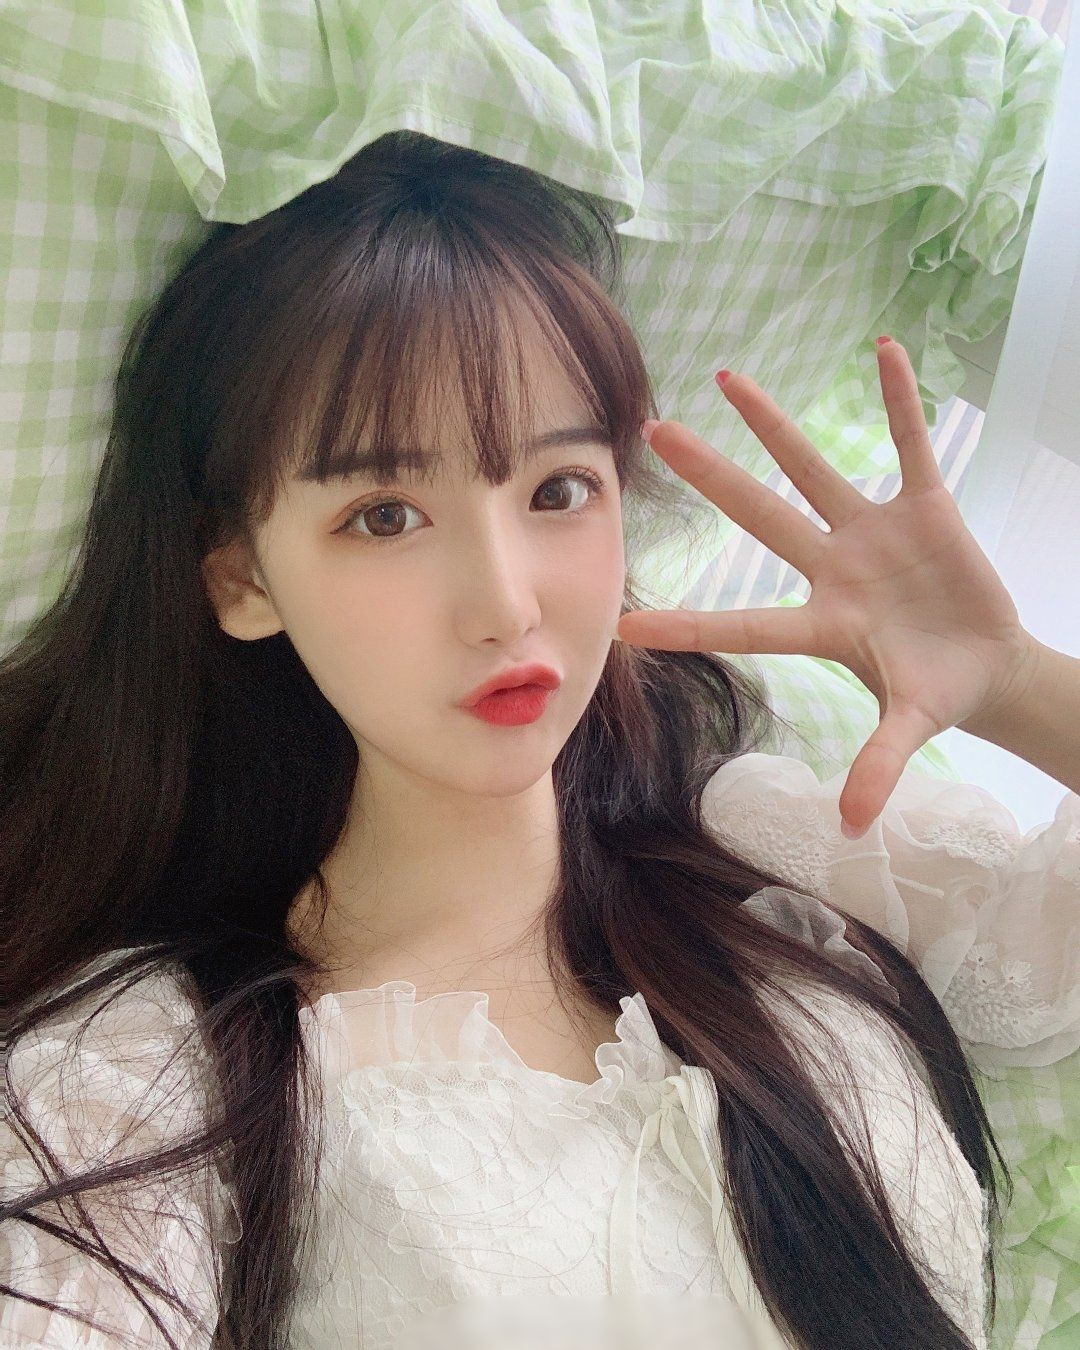person: (129, 120, 1002, 871)
